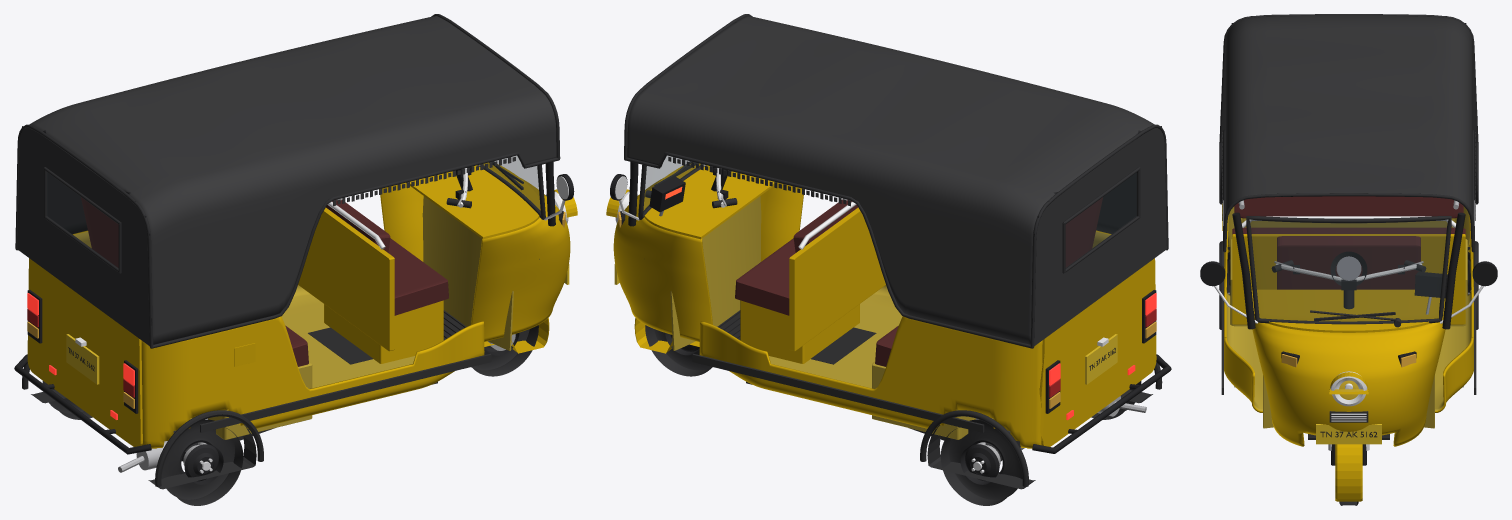
The model's file is car_auto.glb.
The picture shows the model from 3 angles, left to right: view 1: azimuth 30°, elevation 25°; view 2: azimuth 150°, elevation 25°; view 3: azimuth 270°, elevation 25°; orthographic projection. The views are drawn at different scales.
Visible parts, largest first — view 1: Hood, Tub, HoodBack, Body, TubBack, DriverBackPanel, CowlTop, LegShield, DriverSeatBase, Glass_Rear, WRR_Tyre, DriverCushion (+16 smaller); view 2: Hood, Tub, HoodBack, Body, TubBack, DriverBackPanel, LegShield, CowlTop, DriverSeatBase, Glass_Rear, WRL_Tyre, DriverCushion (+16 smaller); view 3: Hood, Glass_Front, Body, CowlTop, Tub, DriverBack, DriverBackPanel, RearBack, ScreenSeal, FrontGuard, RearCushion, HoodPiping (+19 smaller).
Boxes of the visible parts, bbox=[...] form: Hood: bbox=[29, 16, 556, 344]; Tub: bbox=[73, 230, 484, 448]; HoodBack: bbox=[17, 126, 152, 345]; Body: bbox=[380, 178, 570, 341]; TubBack: bbox=[27, 258, 142, 446]; DriverBackPanel: bbox=[298, 207, 394, 351]; CowlTop: bbox=[406, 162, 540, 239]; LegShield: bbox=[422, 196, 513, 350]; DriverSeatBase: bbox=[324, 300, 443, 363]; Glass_Rear: bbox=[47, 172, 118, 267]; WRR_Tyre: bbox=[161, 419, 243, 505]; DriverCushion: bbox=[388, 238, 448, 315]; Hood: bbox=[627, 16, 1154, 344]; Tub: bbox=[699, 230, 1111, 448]; HoodBack: bbox=[1031, 126, 1166, 345]; Body: bbox=[613, 178, 803, 341]; TubBack: bbox=[1039, 258, 1156, 446]; DriverBackPanel: bbox=[789, 207, 885, 351]; LegShield: bbox=[670, 196, 761, 350]; CowlTop: bbox=[643, 163, 777, 239]; DriverSeatBase: bbox=[740, 300, 859, 363]; Glass_Rear: bbox=[1066, 172, 1136, 267]; WRL_Tyre: bbox=[940, 419, 1022, 505]; DriverCushion: bbox=[735, 238, 795, 315]; Hood: bbox=[1221, 15, 1476, 213]; Glass_Front: bbox=[1250, 219, 1448, 321]; Body: bbox=[1252, 316, 1445, 446]; CowlTop: bbox=[1251, 289, 1445, 332]; Tub: bbox=[1224, 206, 1473, 412]; DriverBack: bbox=[1277, 236, 1420, 289]; DriverBackPanel: bbox=[1232, 234, 1465, 324]; RearBack: bbox=[1234, 196, 1463, 218]; ScreenSeal: bbox=[1246, 216, 1451, 324]; FrontGuard: bbox=[1335, 444, 1362, 501]; RearCushion: bbox=[1232, 227, 1465, 234]; HoodPiping: bbox=[1223, 193, 1474, 251].
Size of the model in its own units: 2.81 by 1.74 by 1.53.
